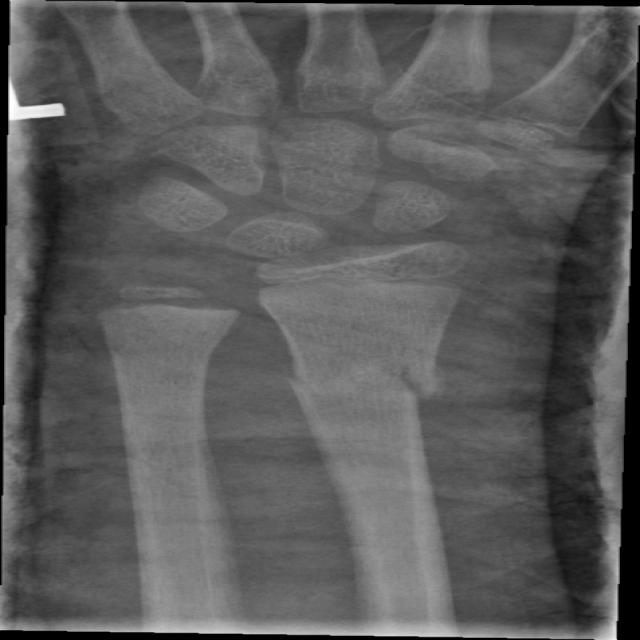radius fracture: (249, 331, 499, 492)
